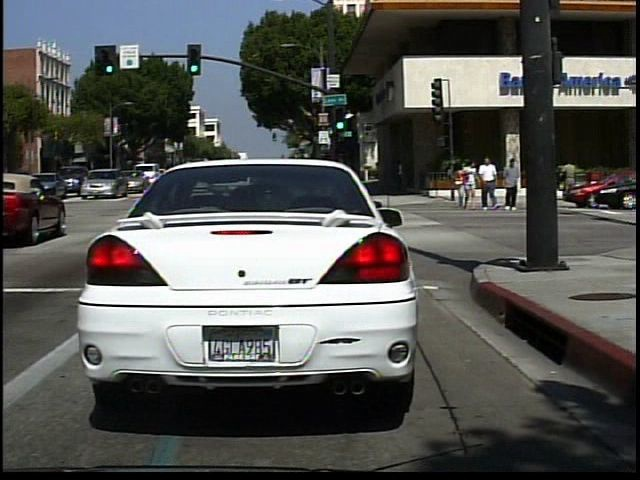person: (477, 154, 503, 214), (501, 155, 525, 210), (558, 156, 582, 204), (466, 157, 482, 210), (453, 162, 467, 211)
